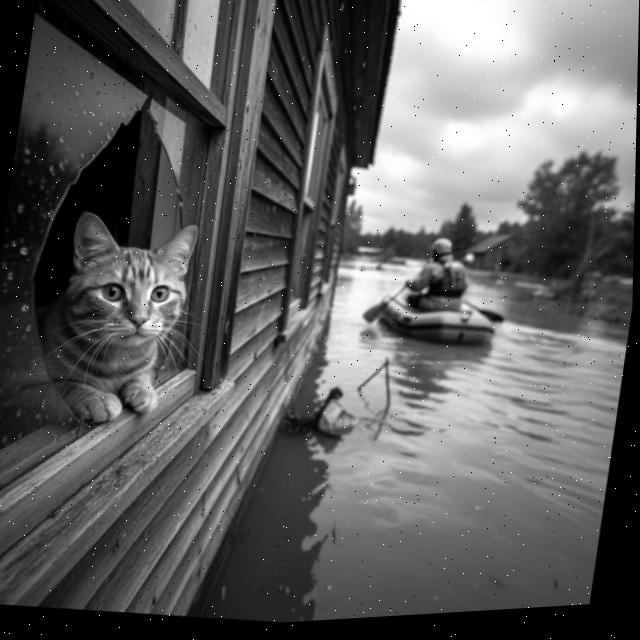cat: (0, 190, 223, 449)
rescuer: (394, 226, 481, 325)
